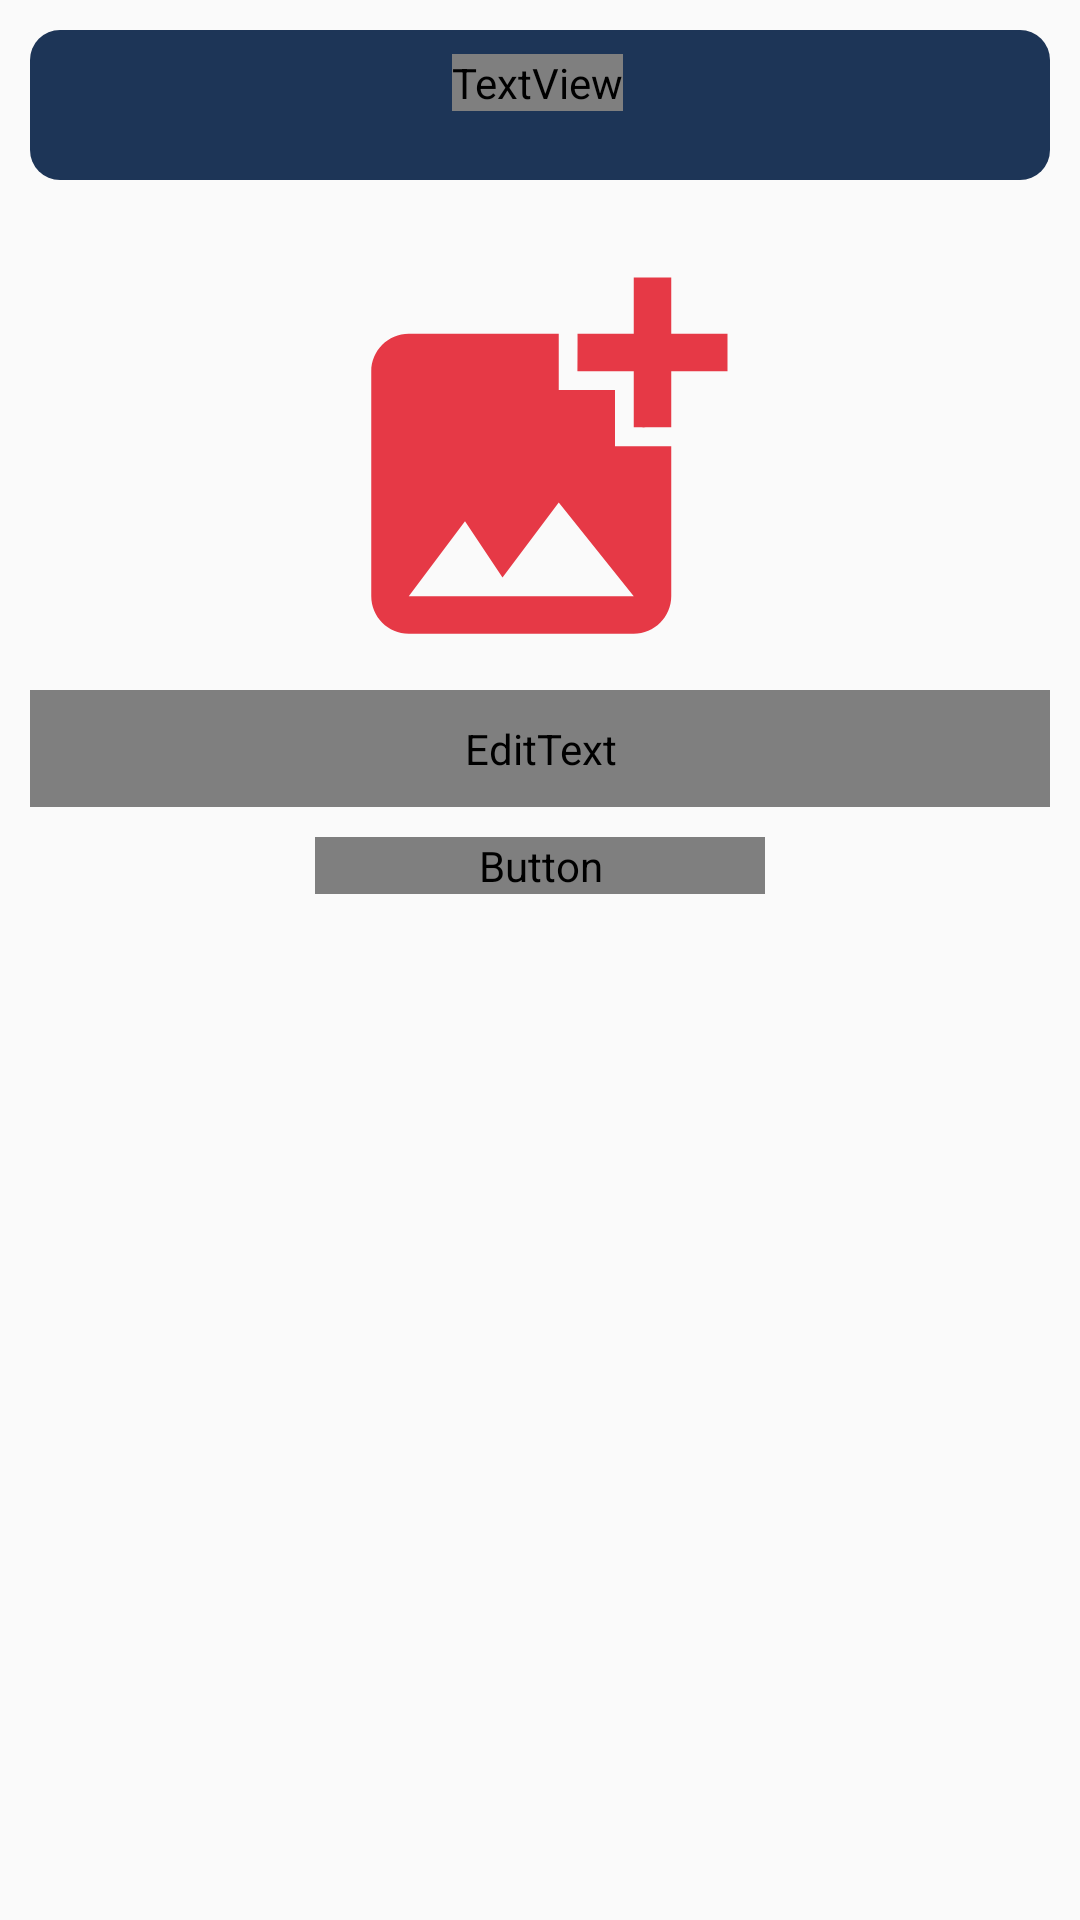

Icons on this 1080px x 1920px Android screen, each with the point to tap as point (x, y):
add photo: point (549, 455)
